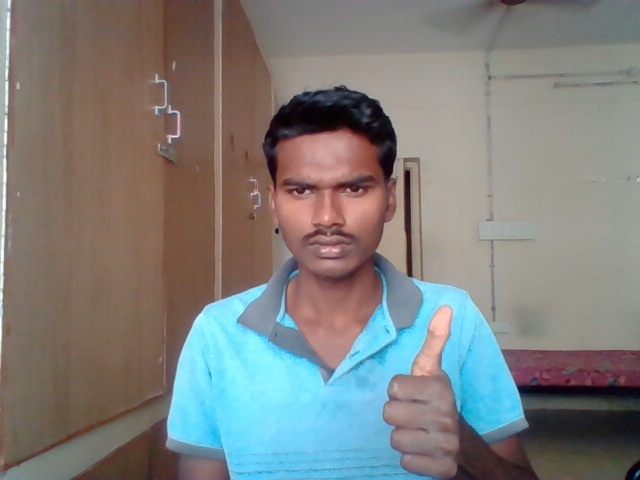Yes: (382, 300, 468, 480)
